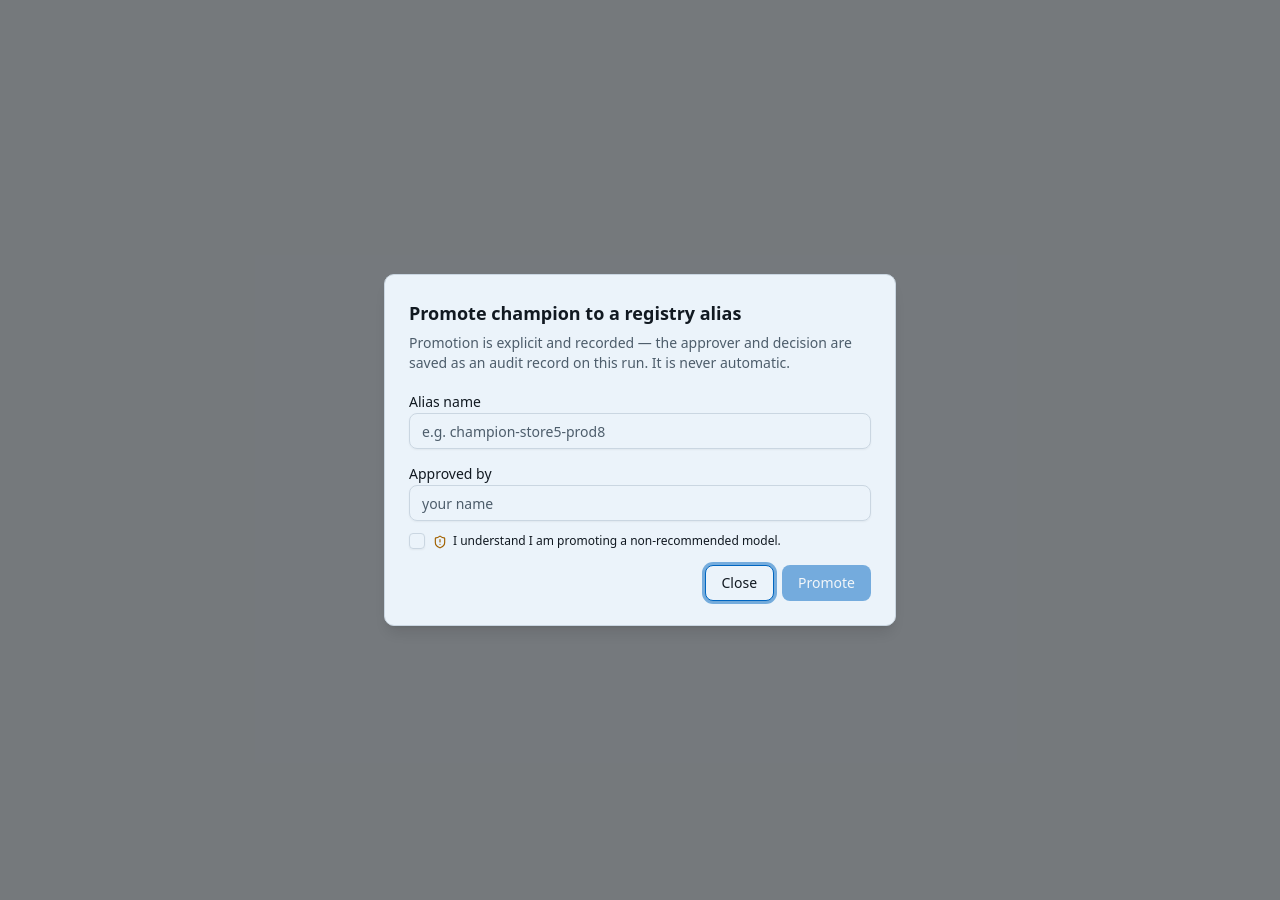
PromoteChampionDialog › requires the ack checkbox for a non-recommended (override) model
Step 1. Type "champion-x" into the field with test id "promote-alias-input" → [640, 431], box top-left (409, 413), bottom-right (871, 449)
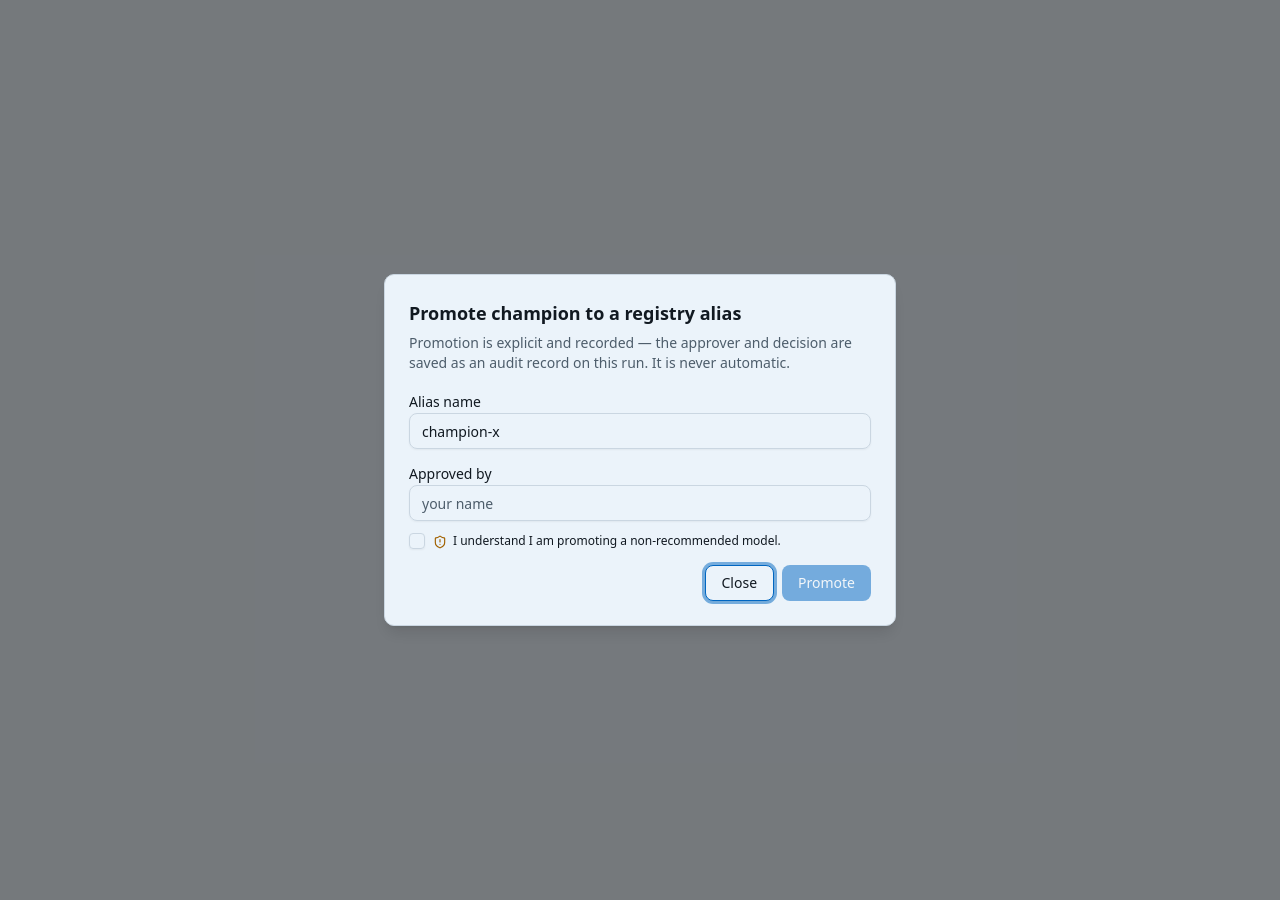
Step 2. Type "gabor" into the field with test id "promote-approver-input" → [640, 503], box top-left (409, 485), bottom-right (871, 521)
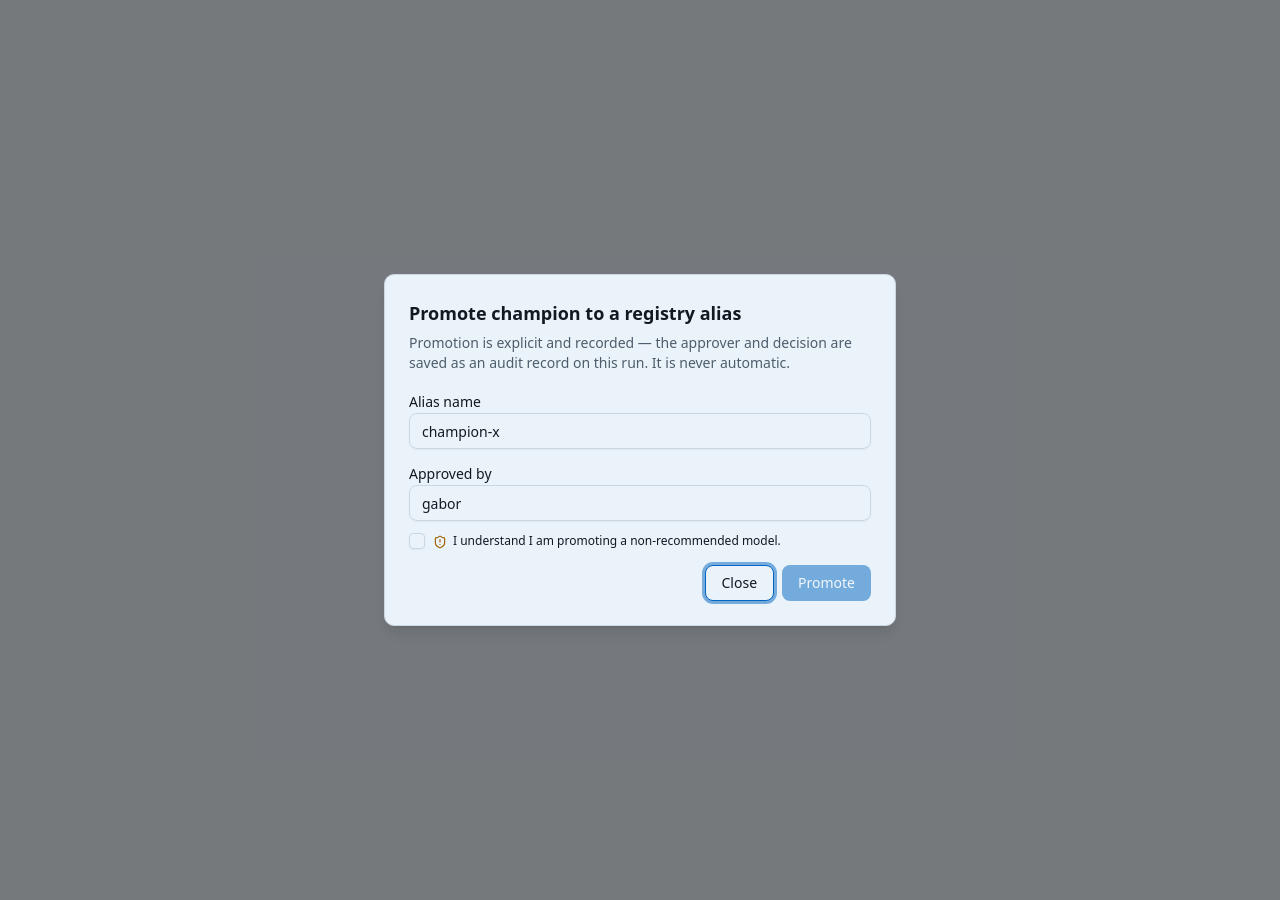
Expected: the button with test id "promote-confirm-action" is disabled, top-left (782, 565), bottom-right (871, 601)
Step 3. Click the checkbox with test id "promote-ack-checkbox" → [417, 541], box top-left (409, 533), bottom-right (425, 549)
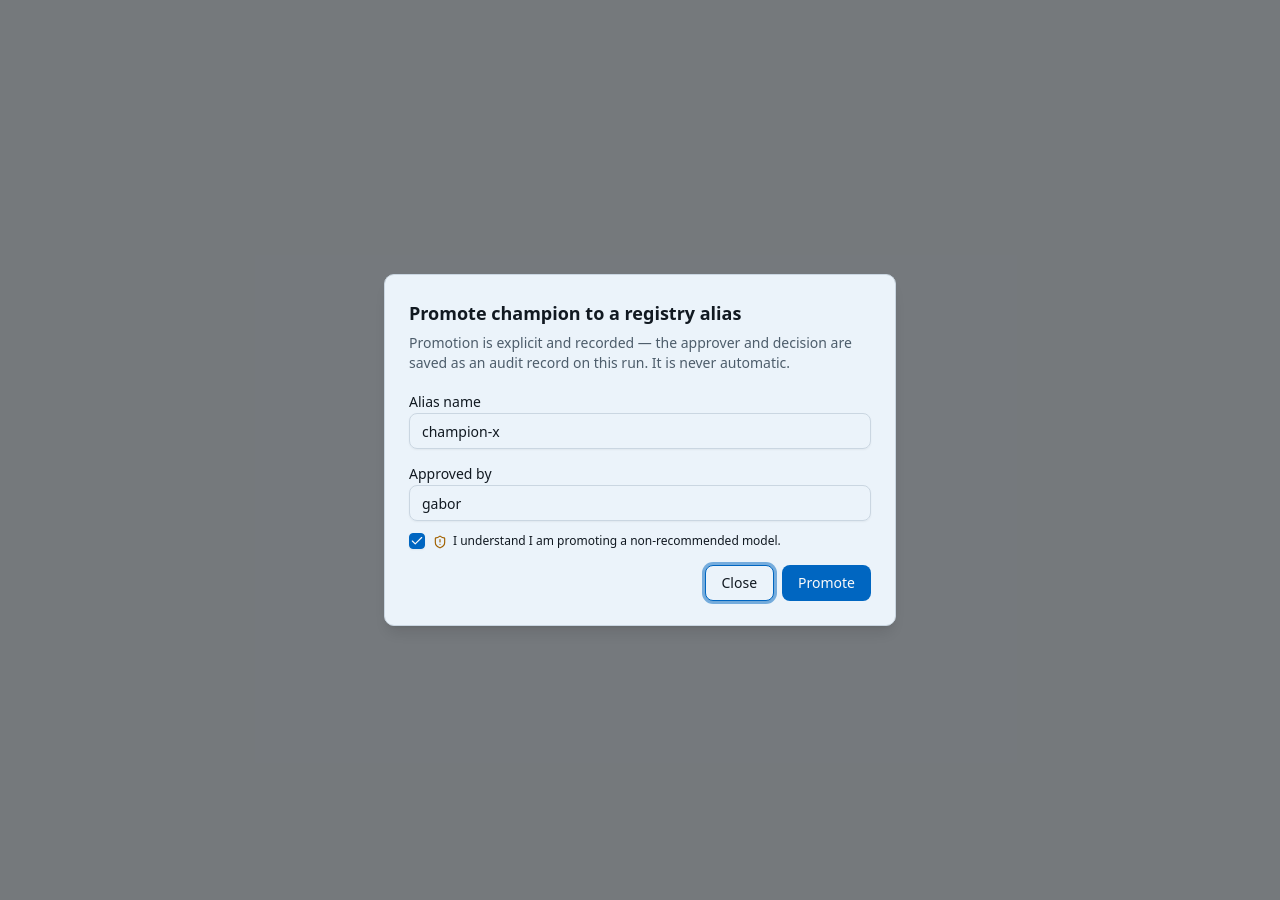
Result: the button with test id "promote-confirm-action" is enabled at top-left (782, 565), bottom-right (871, 601)
